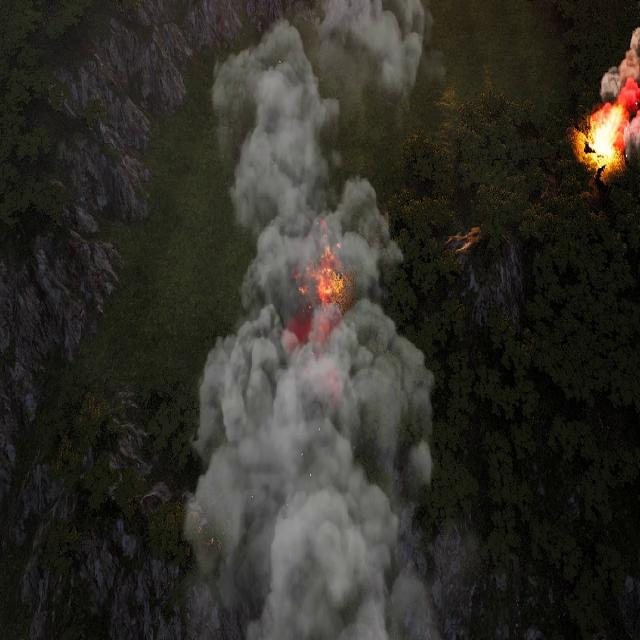fire: (292, 227, 354, 344), (584, 100, 627, 171)
smoke: (156, 4, 452, 639), (601, 18, 640, 146)
